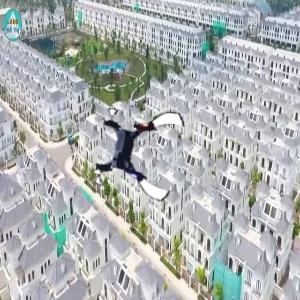drone: (94, 104, 188, 198)
